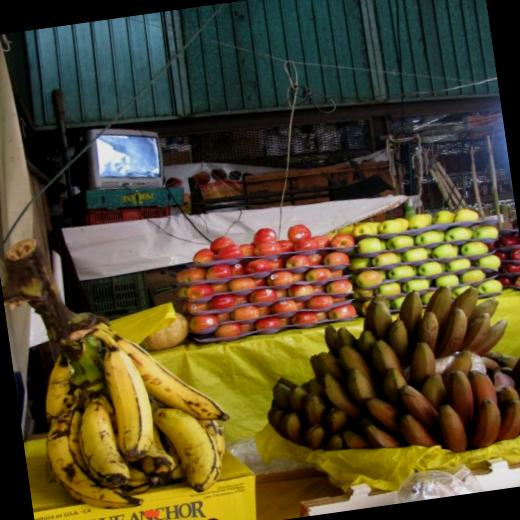Banana: (248, 288, 520, 481), (26, 303, 238, 518)
